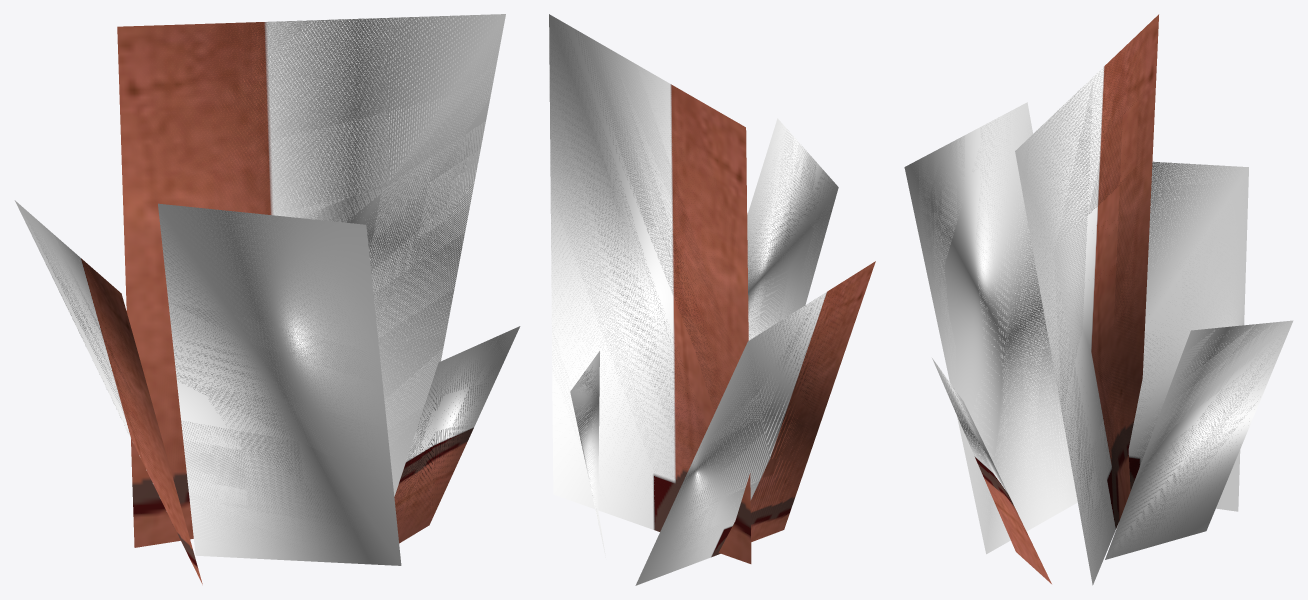
Rendered from 4009_Item_zhiwu_1.FBX.
3 views of the same model, side by side, from view 1: azimuth 30°, elevation 25°; view 2: azimuth 150°, elevation 25°; view 3: azimuth 270°, elevation 25° (orthographic). The views are drawn at different scales.
Parts seen in each view (by area): view 1: 4009_Item_zhiwu_1; view 2: 4009_Item_zhiwu_1; view 3: 4009_Item_zhiwu_1.
Part boxes in pixels (box(x1,y1,x2,y2)): 4009_Item_zhiwu_1: box(14, 14, 520, 584); 4009_Item_zhiwu_1: box(549, 14, 875, 585); 4009_Item_zhiwu_1: box(904, 14, 1293, 585).
Size of the model in its own units: 79.52 by 103 by 78.81.
